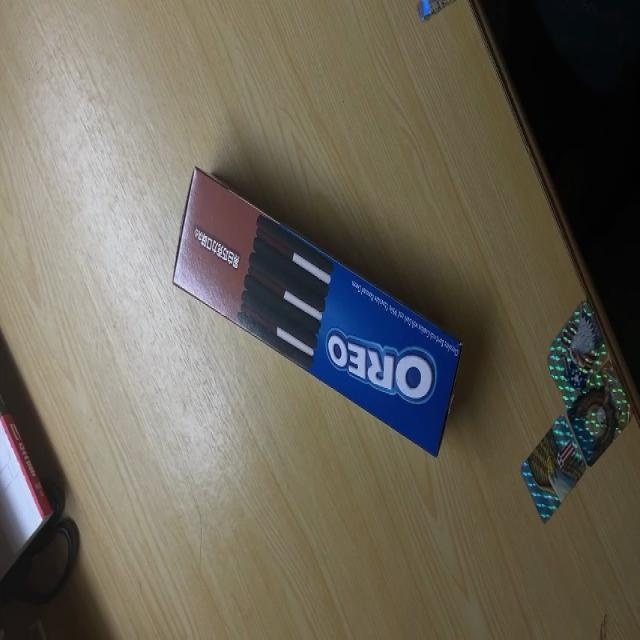Oreo: (174, 168, 462, 458)
